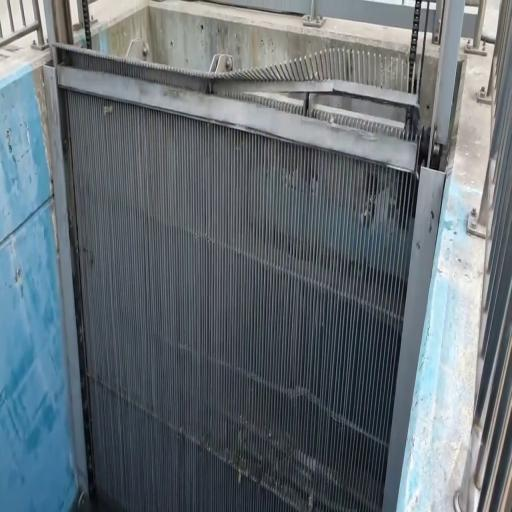rake_broken: (200, 41, 426, 116)
